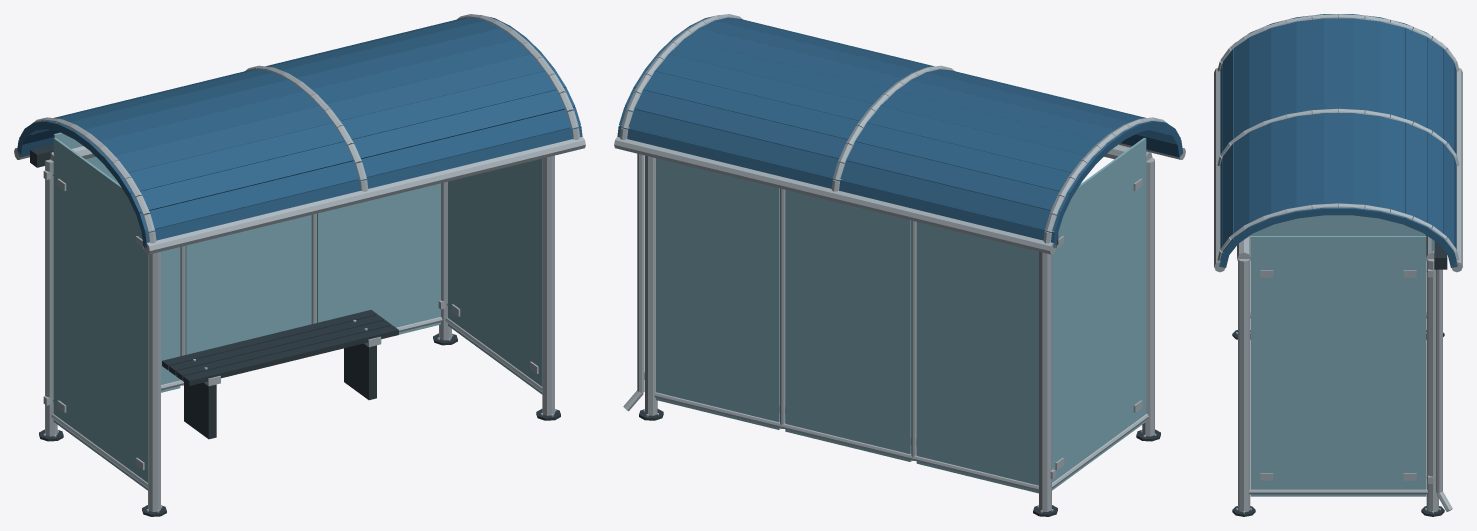
File: b01_barrel_vault_bus_shelter.glb
3 renders of one model, left to right at view 1: azimuth 30°, elevation 25°; view 2: azimuth 150°, elevation 25°; view 3: azimuth 270°, elevation 25°, orthographic. The views are drawn at different scales.
Visible parts, largest first — view 1: b01_barrel_vault_bus_shelter; view 2: b01_barrel_vault_bus_shelter; view 3: b01_barrel_vault_bus_shelter.
Boxes of the visible parts, x1,y1,x2,y2 form: b01_barrel_vault_bus_shelter: (14,14,585,516); b01_barrel_vault_bus_shelter: (614,14,1185,516); b01_barrel_vault_bus_shelter: (1214,14,1462,516).
Bounding box in the file's own units: 3.54 × 2.67 × 1.91.
